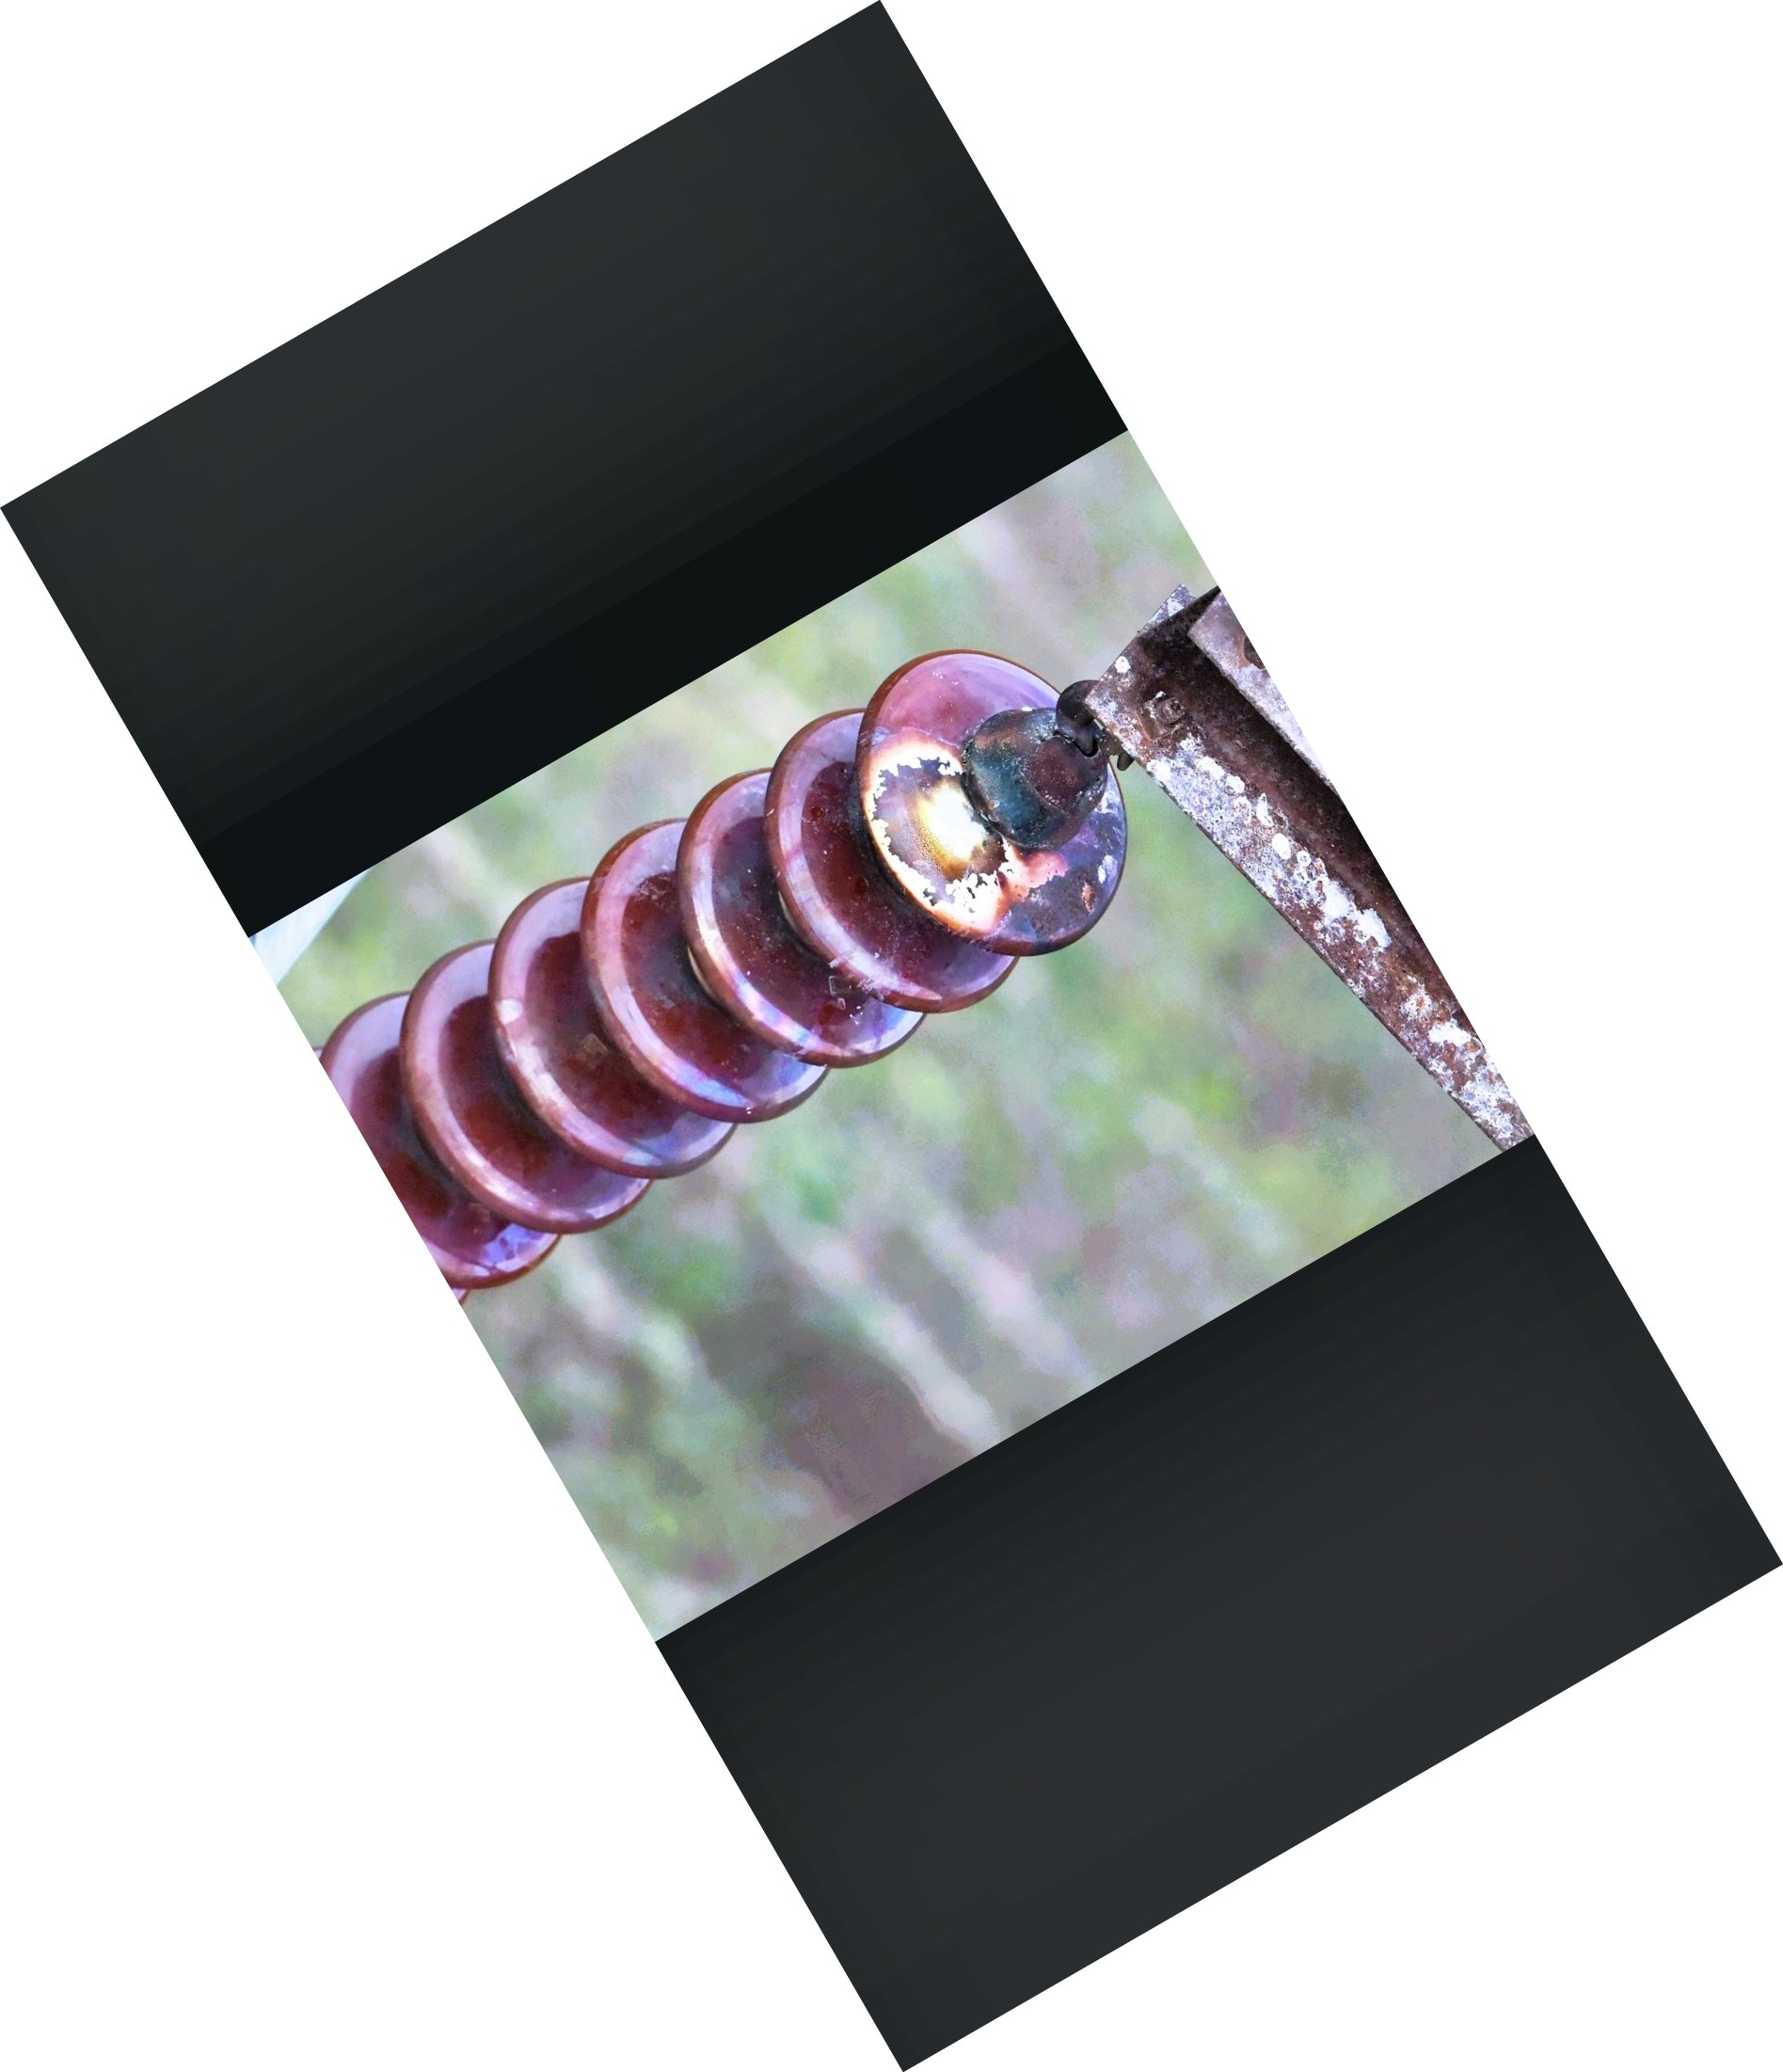Insulator flashover: (839, 627, 1152, 973)
